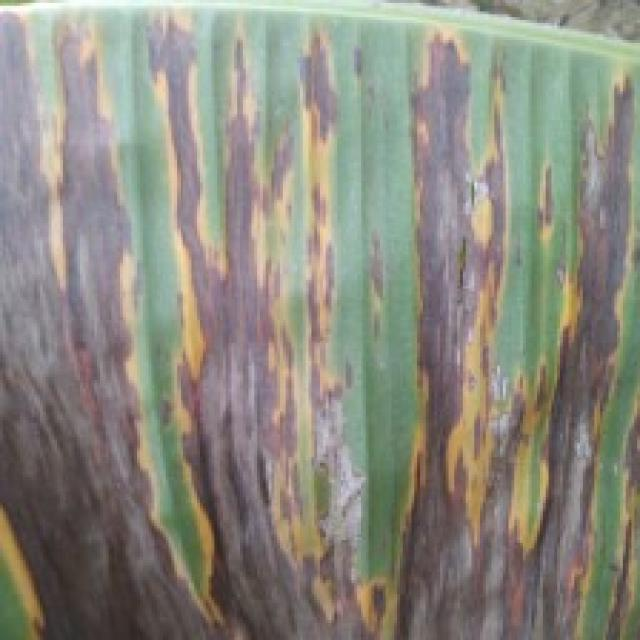Early_leaf_spot: (144, 0, 640, 640), (0, 0, 177, 634)
